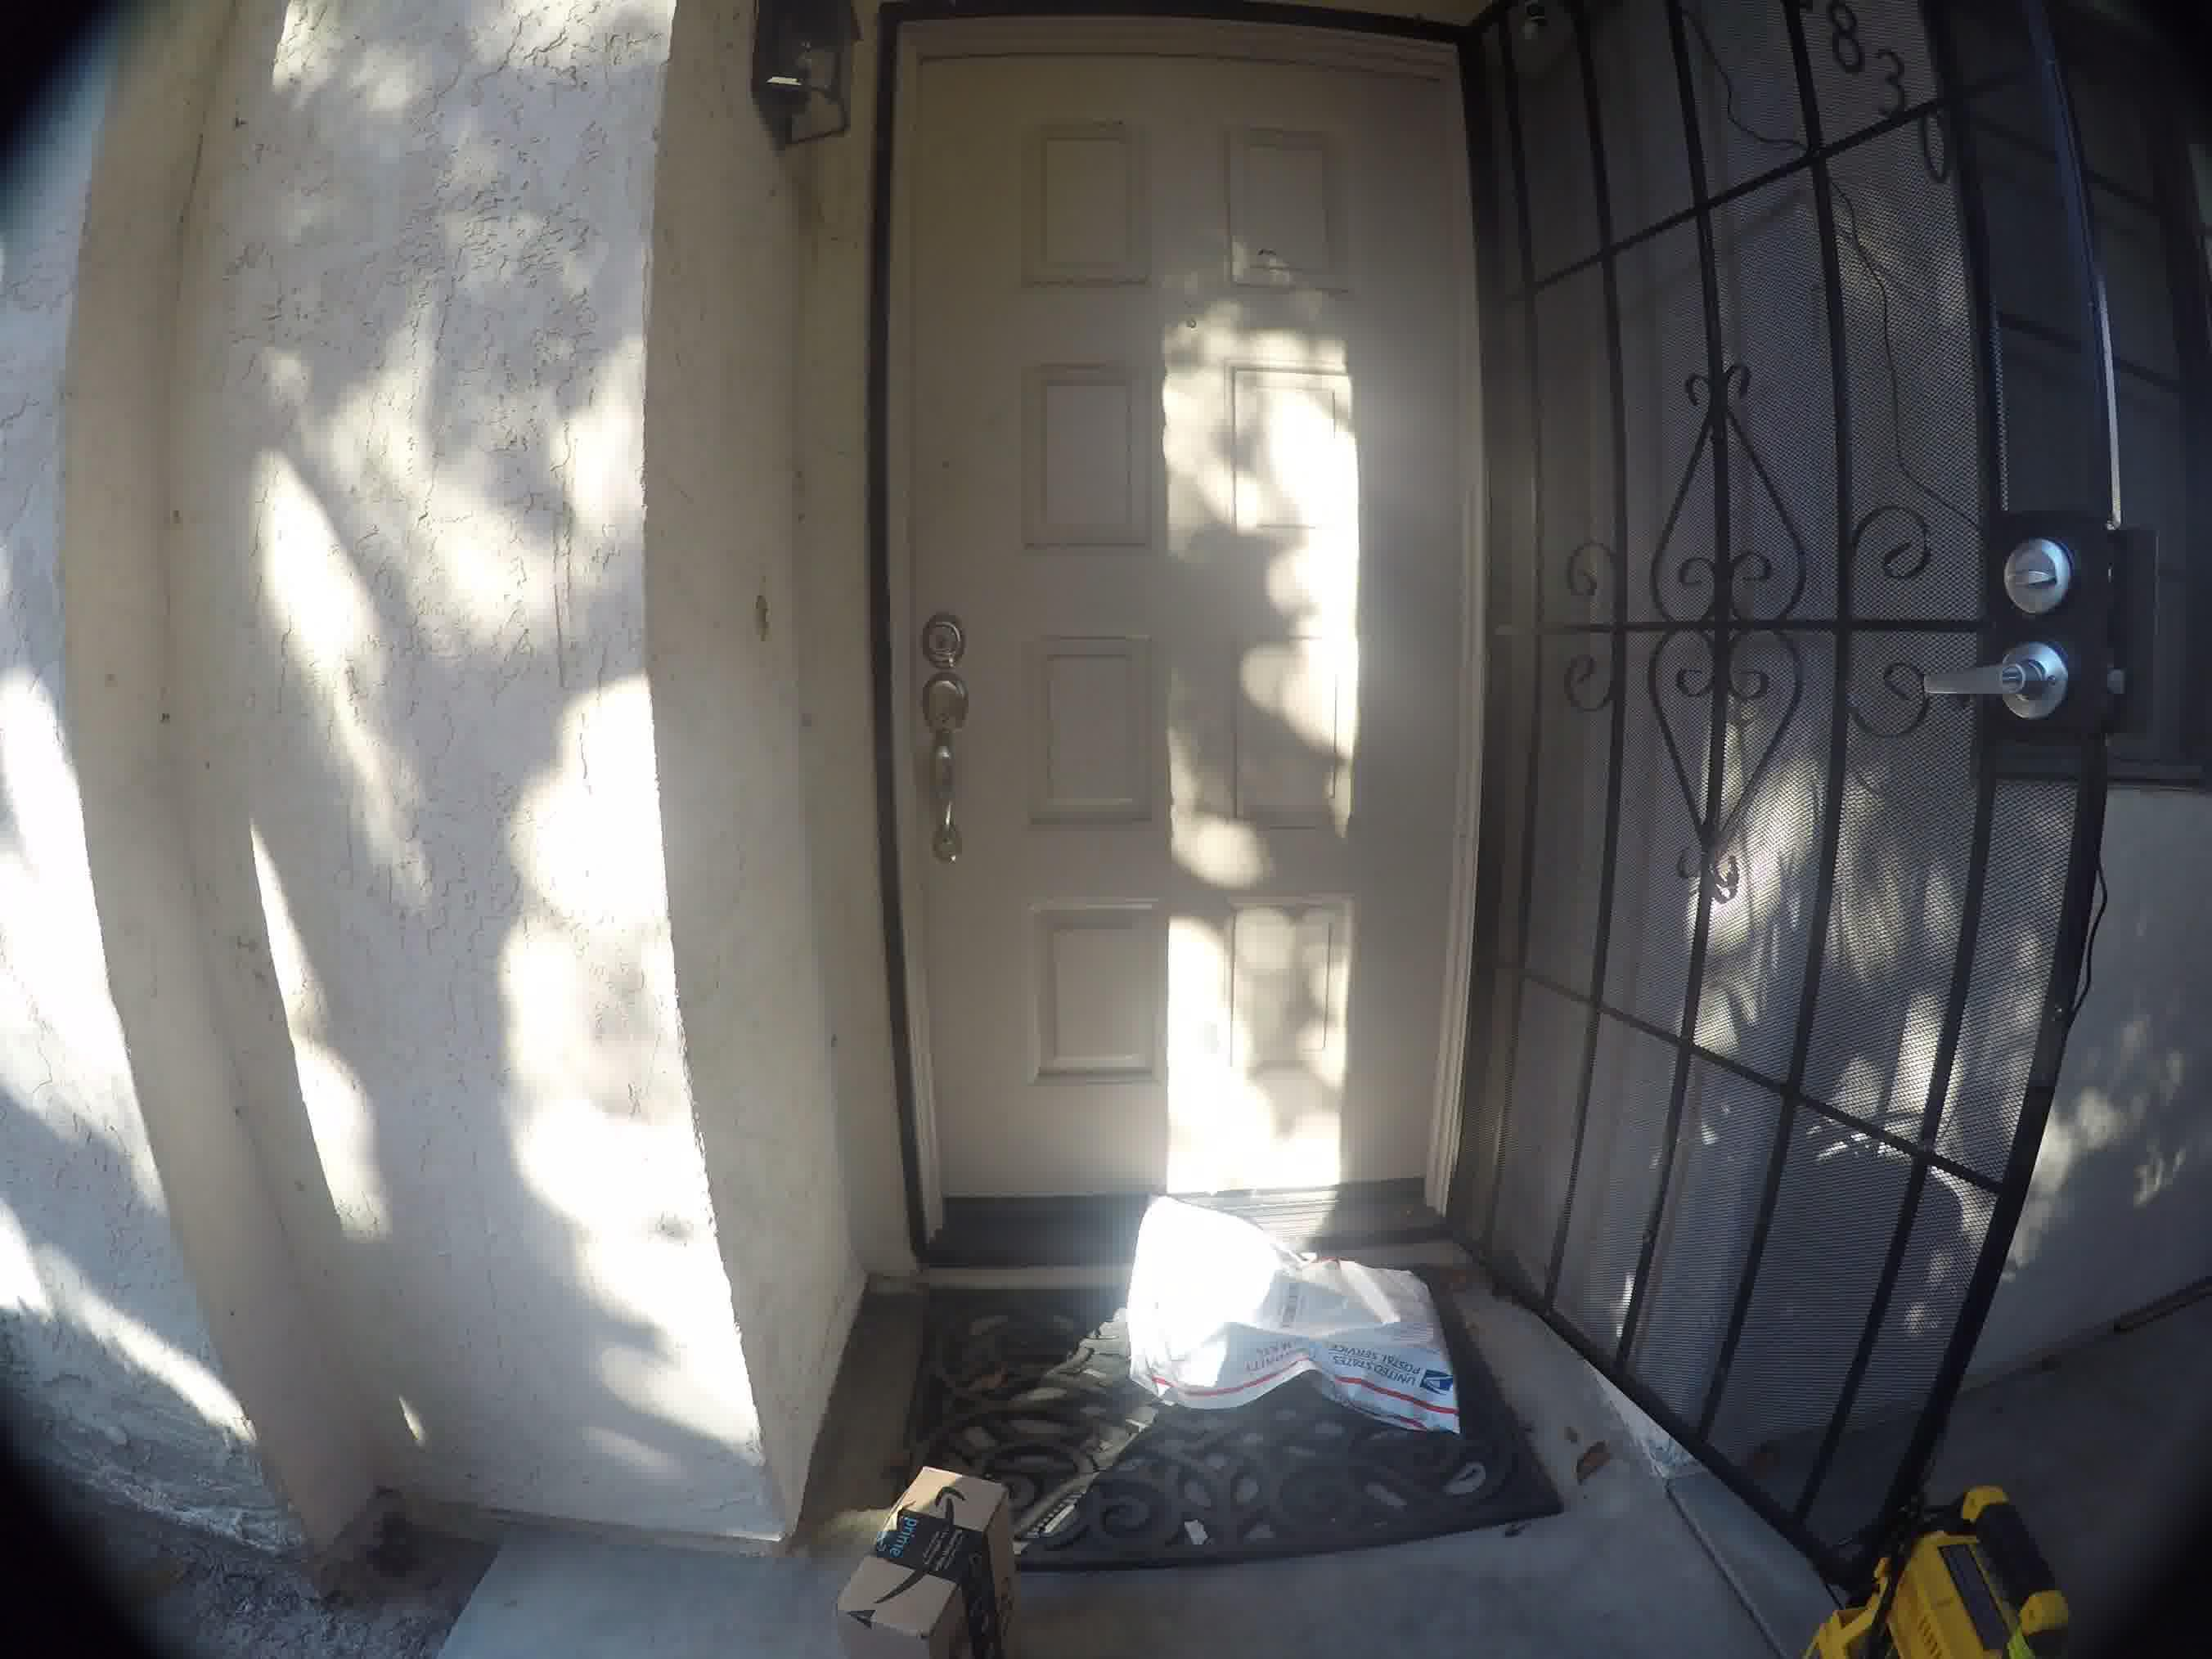box: (831, 1412, 1052, 1626)
plastic_bag: (1116, 1152, 1493, 1445)
